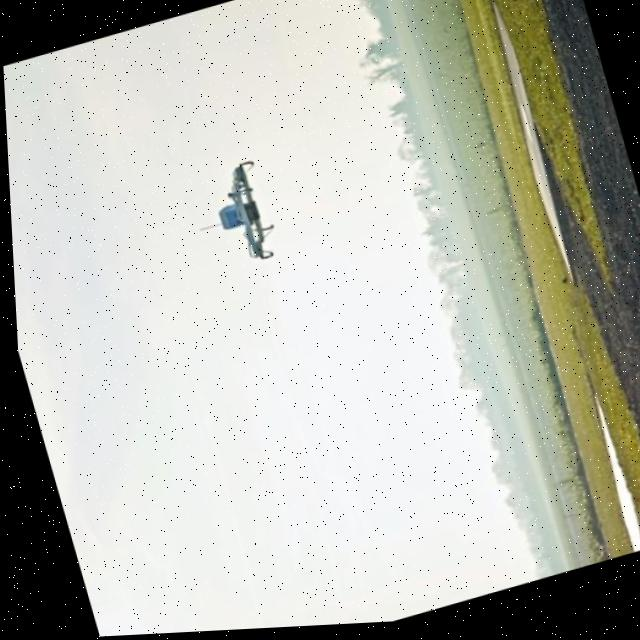drones: (167, 134, 316, 291)
